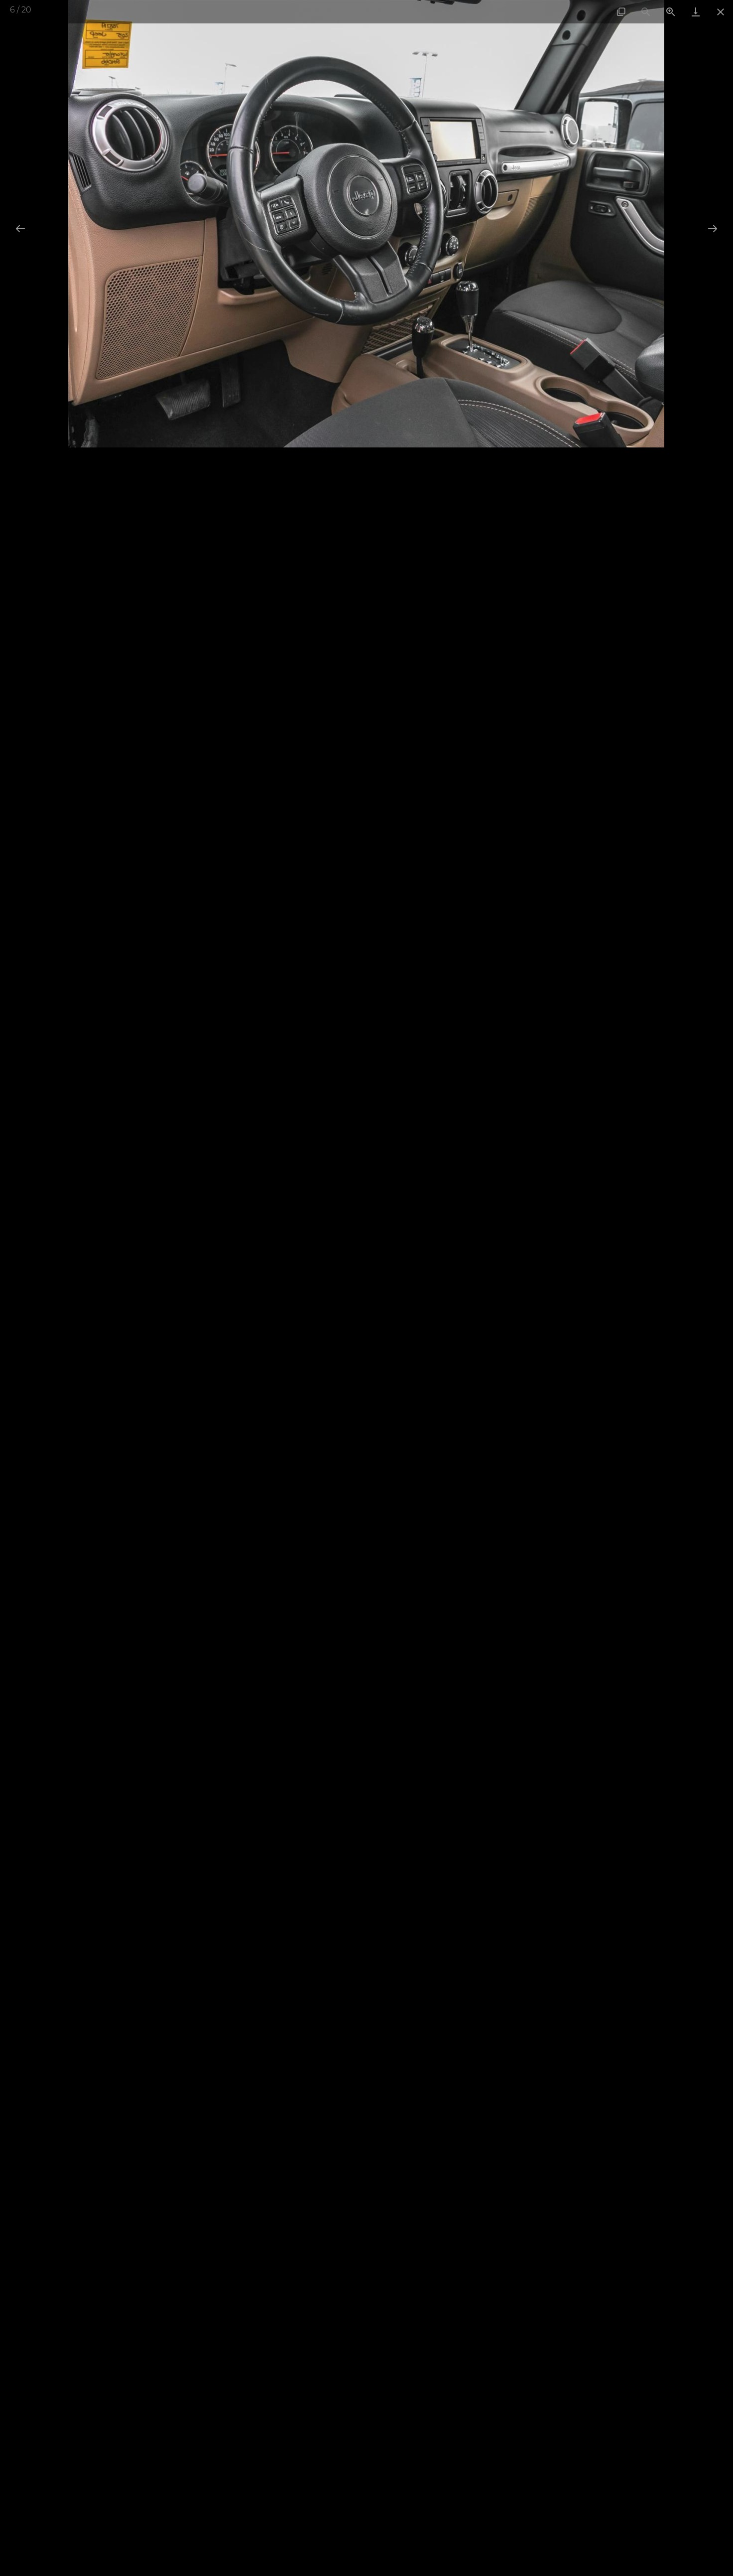car: (708, 225, 718, 233)
